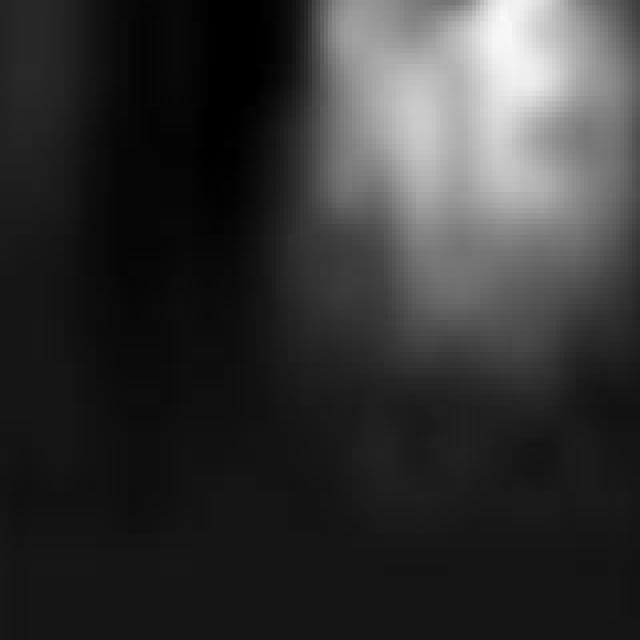person: (285, 1, 469, 364), (441, 1, 633, 300)
